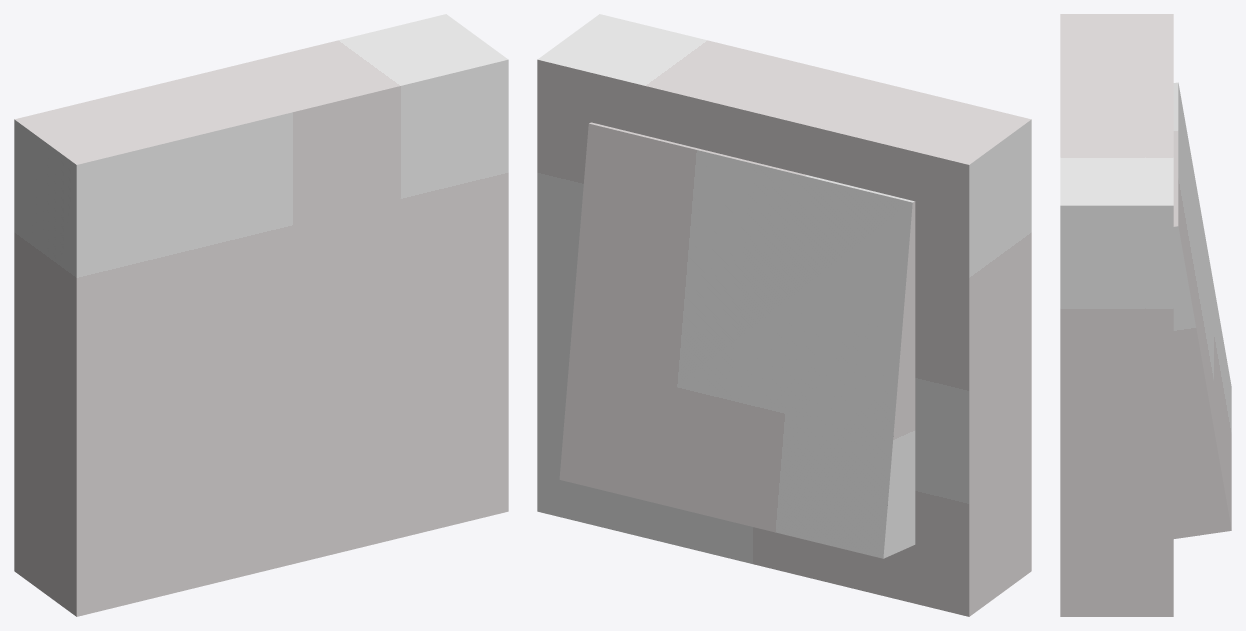
The model's file is minecraft_style_low-poly_switch.glb.
The picture shows the model from 3 angles, left to right: view 1: azimuth 30°, elevation 25°; view 2: azimuth 150°, elevation 25°; view 3: azimuth 270°, elevation 25°; orthographic projection. The views are drawn at different scales.
Parts seen in each view (by area): view 1: cube; view 2: cube, cube_1; view 3: cube, cube_1.
Boxes of the visible parts, <box> form: cube: <box>14,14,508,616</box>; cube: <box>537,14,1031,616</box>; cube_1: <box>559,122,915,558</box>; cube: <box>1060,14,1173,616</box>; cube_1: <box>1173,82,1231,538</box>.
Size of the model in its own units: 0.125 by 0.125 by 0.0472.
Materials: 1 (1 with a texture image).
